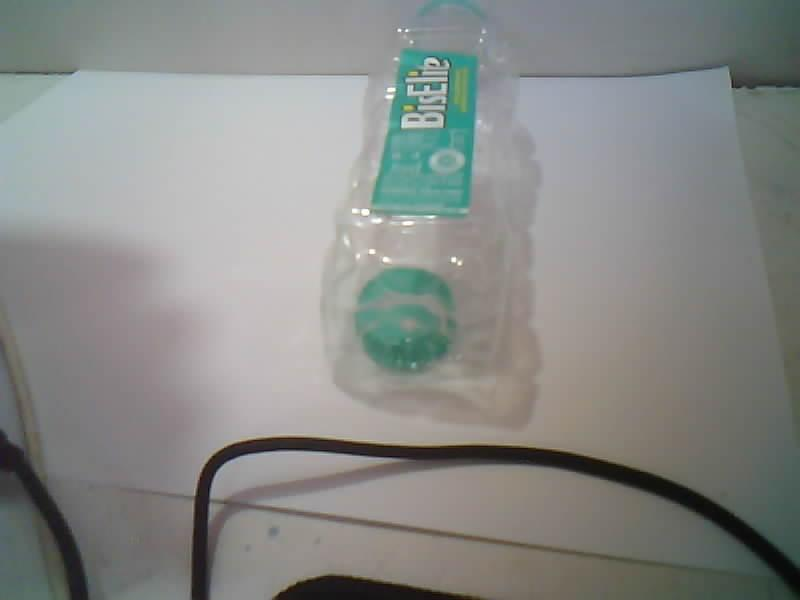non-biodegradable: (321, 0, 531, 408)
